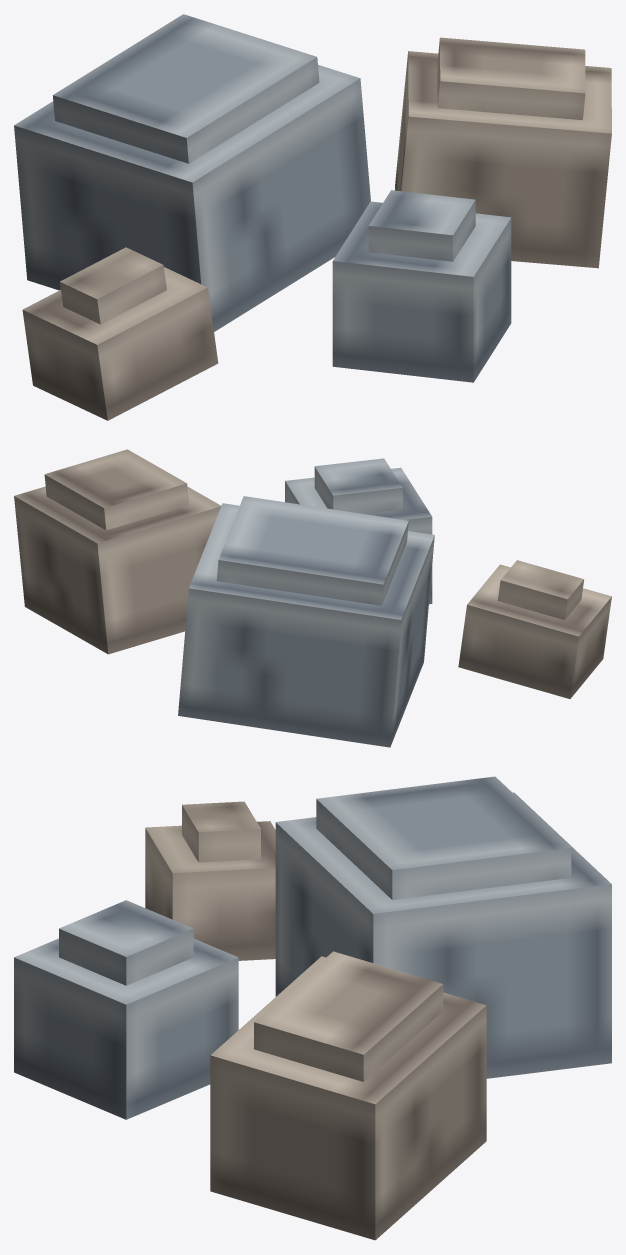
File: EP_SmallStones.fbx
The picture shows the model from 3 angles, top to bottom: view 1: azimuth 30°, elevation 25°; view 2: azimuth 150°, elevation 25°; view 3: azimuth 270°, elevation 25°; orthographic projection. The views are drawn at different scales.
Visible parts, largest first — view 1: stones_small; view 2: stones_small; view 3: stones_small.
Part boxes in pixels (box(x1,y1,x2,y2)): stones_small: box(14, 14, 611, 420); stones_small: box(14, 449, 611, 747); stones_small: box(14, 776, 611, 1240).
Bounding box in the file's own units: 158 × 48.98 × 118.
